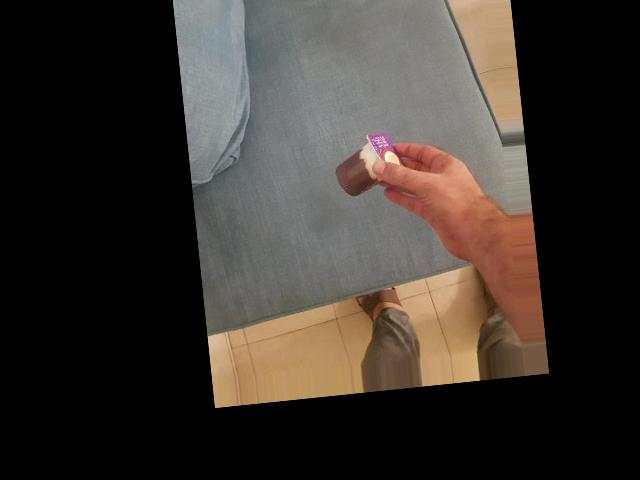milky: (242, 95, 326, 168)
